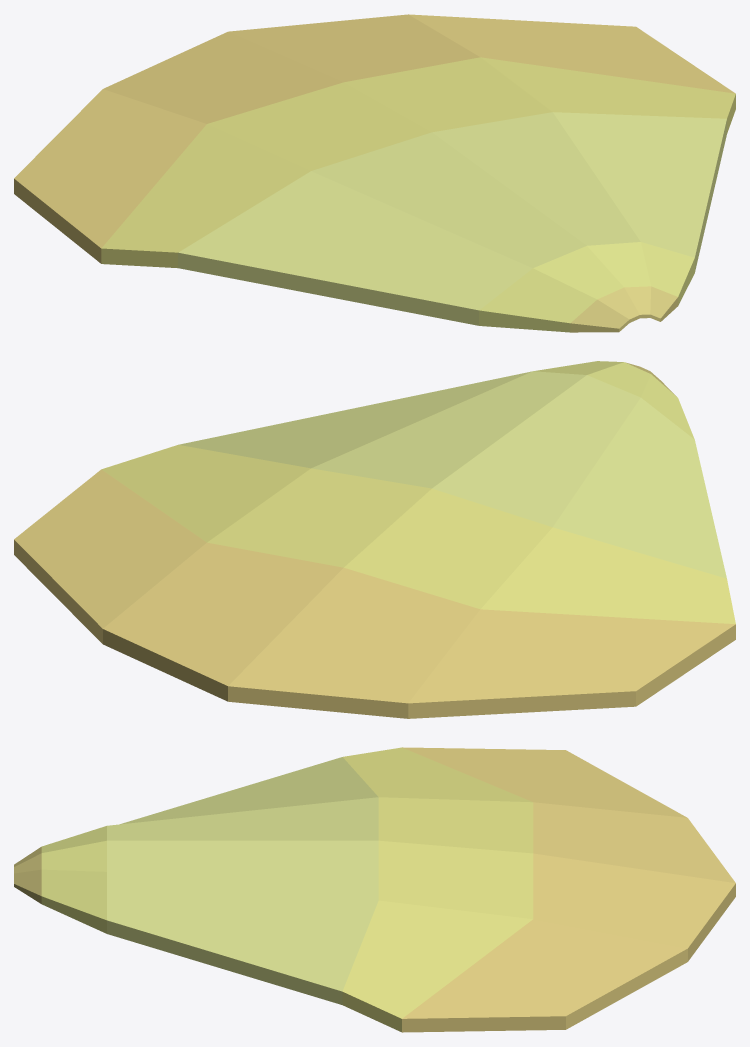
Rendered from Concha.fbx.
3 renders of one model, top to bottom at view 1: azimuth 30°, elevation 25°; view 2: azimuth 150°, elevation 25°; view 3: azimuth 270°, elevation 25°, orthographic. The views are drawn at different scales.
Parts seen in each view (by area): view 1: Cube; view 2: Cube; view 3: Cube.
Boxes of the visible parts, x1=… form: Cube: x1=14, y1=14, x2=735, y2=332; Cube: x1=14, y1=361, x2=735, y2=718; Cube: x1=14, y1=747, x2=735, y2=1032.
Size of the model in its own units: 208 by 20.02 by 234.
